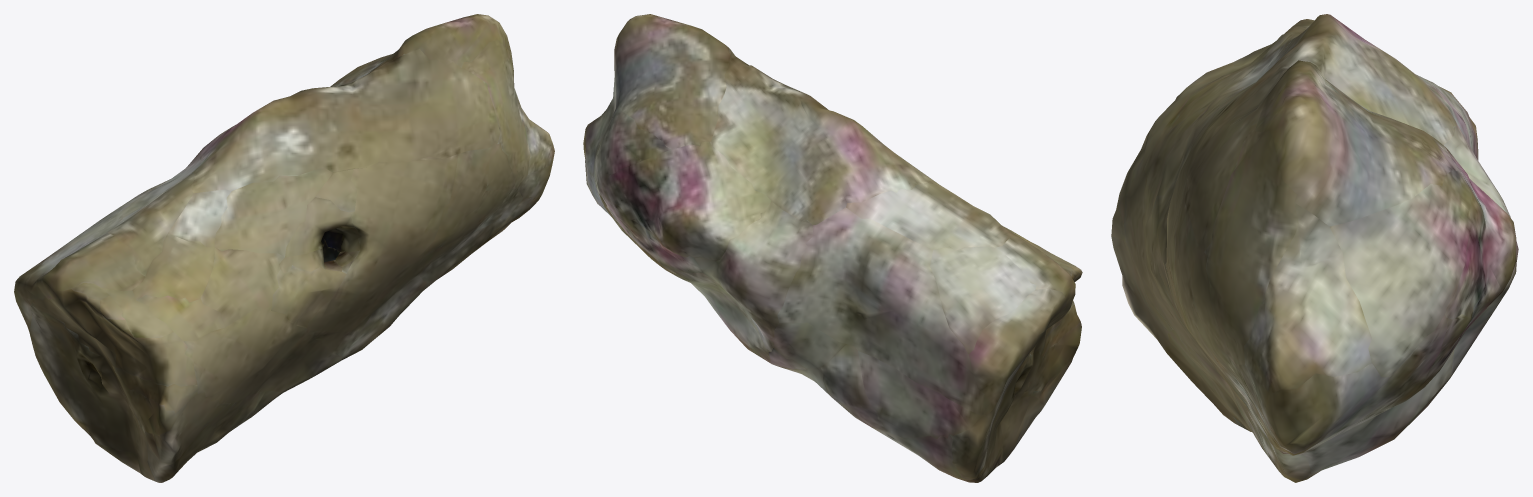
Rendered from hall.glb.
The picture shows the model from 3 angles, left to right: view 1: azimuth 30°, elevation 25°; view 2: azimuth 150°, elevation 25°; view 3: azimuth 270°, elevation 25°; orthographic projection. The views are drawn at different scales.
Bounding box in the file's own units: 0.7795 × 0.5628 × 0.3558.
1 material, 1 textured.
